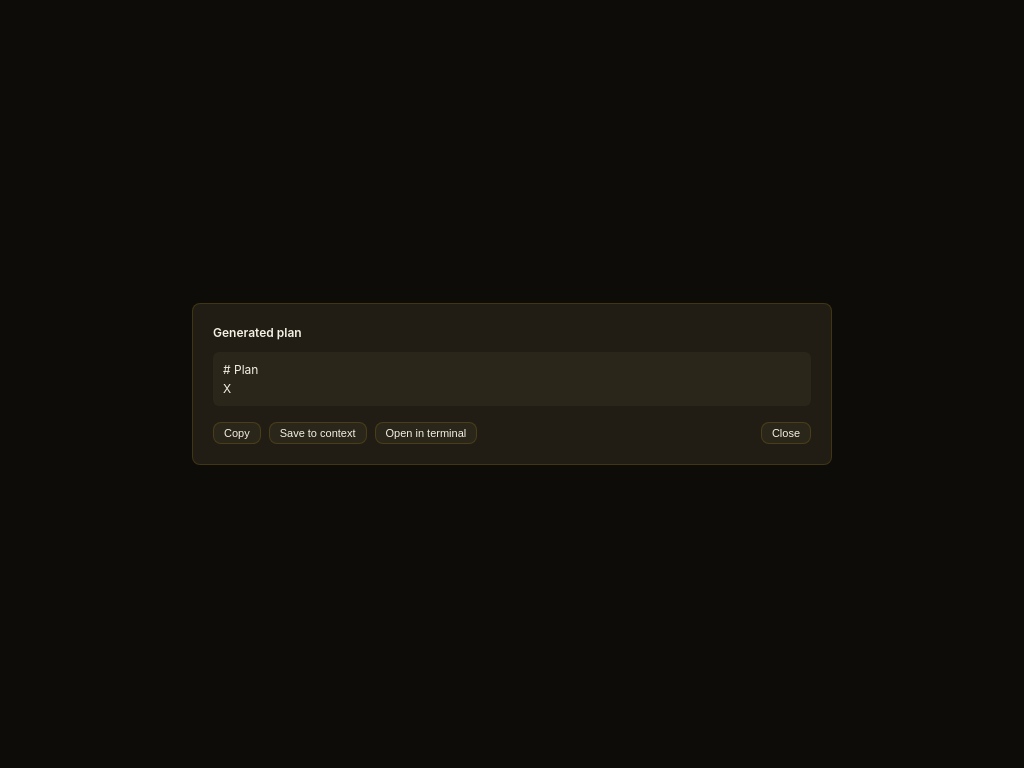
PlanModal › shows the plan temp-file path after opening in the terminal
Click the button "Open in terminal" at (426, 433), box x1=374 y1=422 x2=477 y2=444
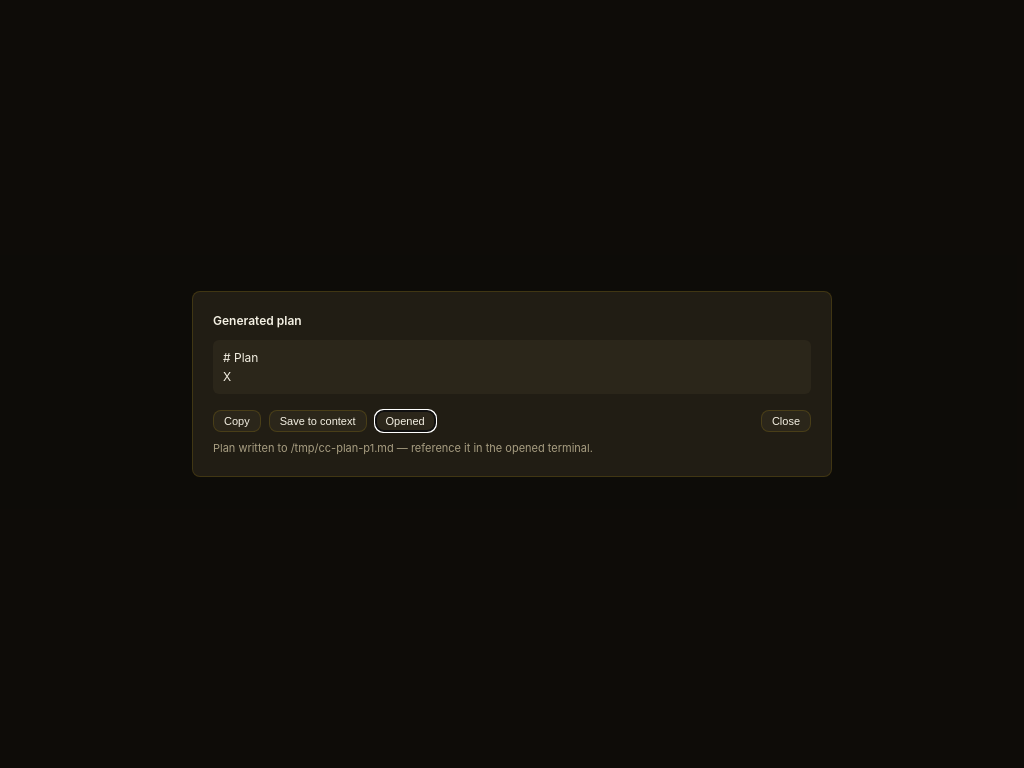
Result: the text "/tmp/cc-plan-p1.md" is shown at x1=291 y1=441 x2=394 y2=455
